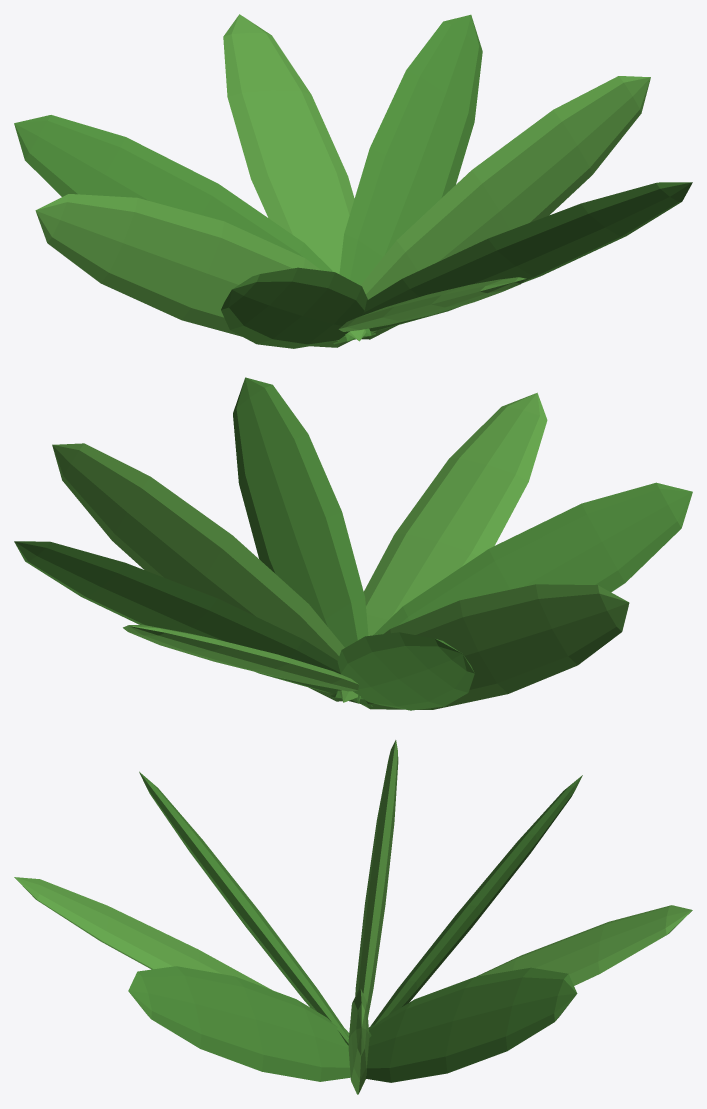
File: fern.glb
The picture shows the model from 3 angles, top to bottom: view 1: azimuth 30°, elevation 25°; view 2: azimuth 150°, elevation 25°; view 3: azimuth 270°, elevation 25°; orthographic projection.
Parts seen in each view (by area): view 1: Fern; view 2: Fern; view 3: Fern.
Part boxes in pixels (box(x1,y1,x2,y2)): Fern: box(14, 14, 692, 348); Fern: box(14, 377, 692, 710); Fern: box(14, 740, 692, 1094).
Bounding box in the file's own units: 1.66 × 0.5312 × 1.65.
